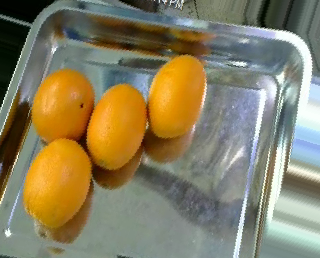Orange: (24, 137, 92, 226), (87, 84, 147, 169), (30, 69, 93, 144), (149, 55, 206, 137)
